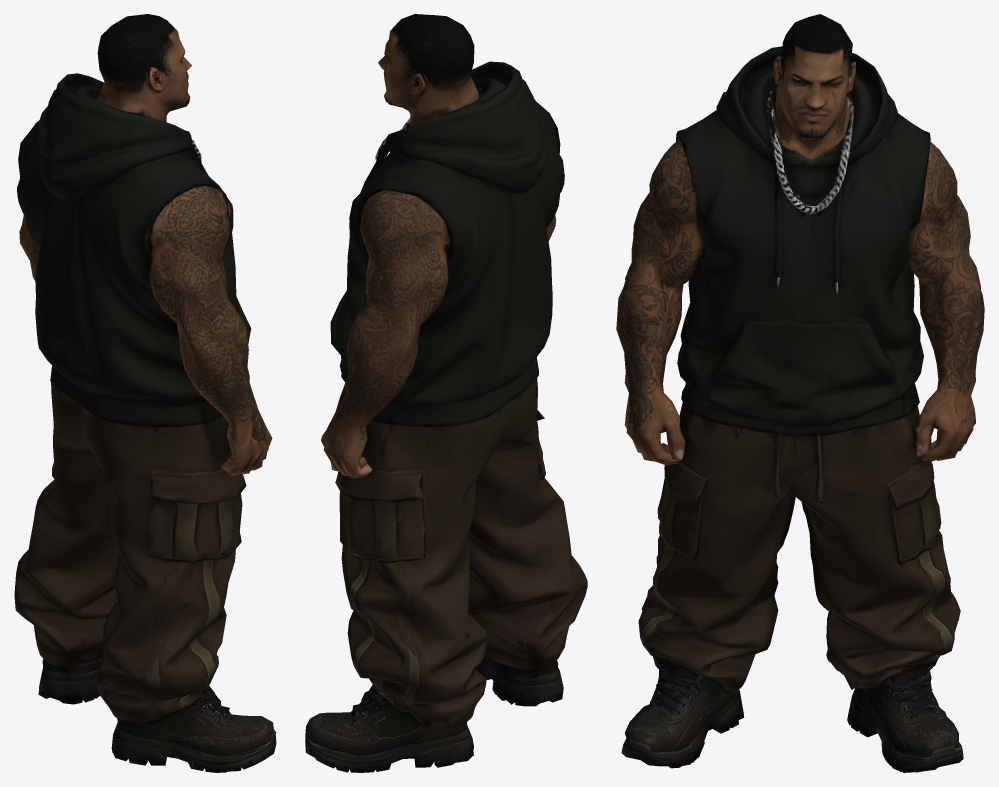
File: muscular+man+3d+model.glb
3 renders of one model, left to right at view 1: azimuth 30°, elevation 25°; view 2: azimuth 150°, elevation 25°; view 3: azimuth 270°, elevation 25°, orthographic. The views are drawn at different scales.
Parts seen in each view (by area): view 1: tripo_node_3f2bac9e-f9f6-4dbc-b7d8-101bda057bb9; view 2: tripo_node_3f2bac9e-f9f6-4dbc-b7d8-101bda057bb9; view 3: tripo_node_3f2bac9e-f9f6-4dbc-b7d8-101bda057bb9.
Part boxes in pixels (x1=…): tripo_node_3f2bac9e-f9f6-4dbc-b7d8-101bda057bb9: x1=14, y1=14, x2=276, y2=772; tripo_node_3f2bac9e-f9f6-4dbc-b7d8-101bda057bb9: x1=305, y1=14, x2=587, y2=772; tripo_node_3f2bac9e-f9f6-4dbc-b7d8-101bda057bb9: x1=616, y1=14, x2=984, y2=772.
Size of the model in its own units: 0.2689 by 1 by 0.4581.
Materials: 1 (1 with a texture image).
